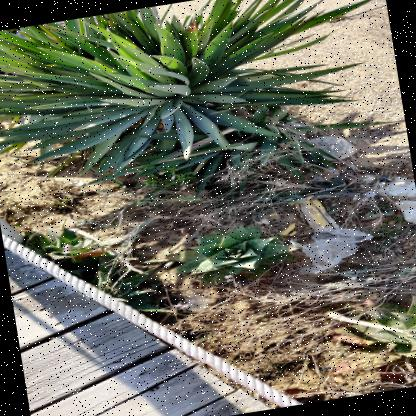Cigarette: (363, 139, 370, 143)
Plastic film: (290, 227, 373, 274), (281, 176, 346, 201), (176, 294, 213, 310), (325, 167, 362, 181)
